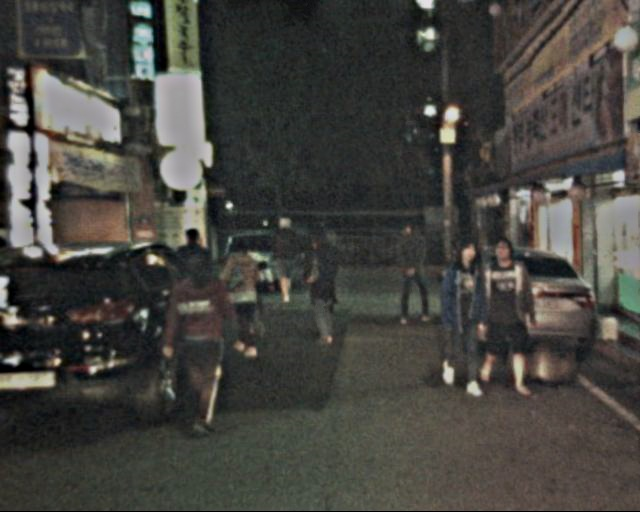person: (164, 247, 235, 427), (473, 239, 538, 397), (436, 242, 497, 390), (218, 239, 269, 355), (298, 236, 348, 346), (170, 229, 217, 344), (392, 221, 436, 322), (268, 216, 303, 302)
